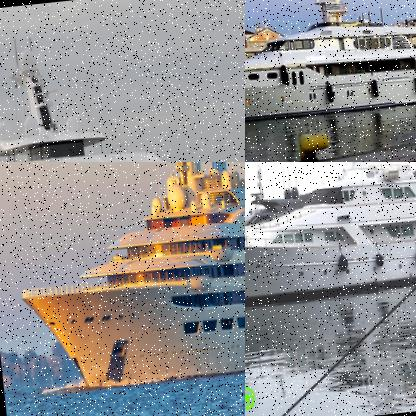Yacht: (2, 162, 244, 396), (0, 15, 244, 161), (245, 162, 415, 316), (245, 0, 415, 137)
